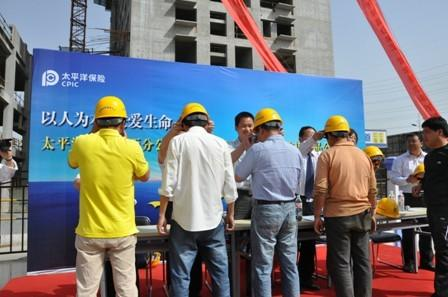helmet: (94, 96, 128, 121), (254, 109, 284, 131), (182, 103, 210, 124), (323, 117, 352, 137), (377, 197, 403, 219), (365, 146, 384, 158), (413, 166, 427, 181)
